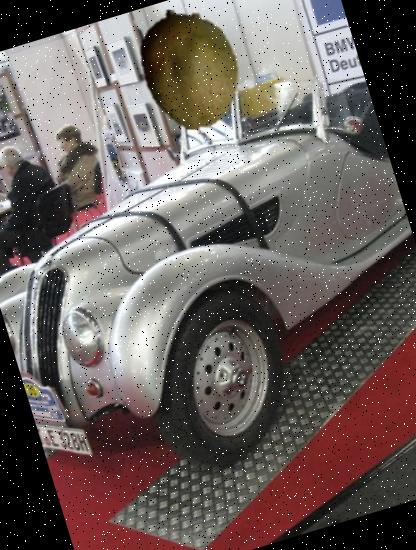Papaya: (114, 0, 264, 144)
